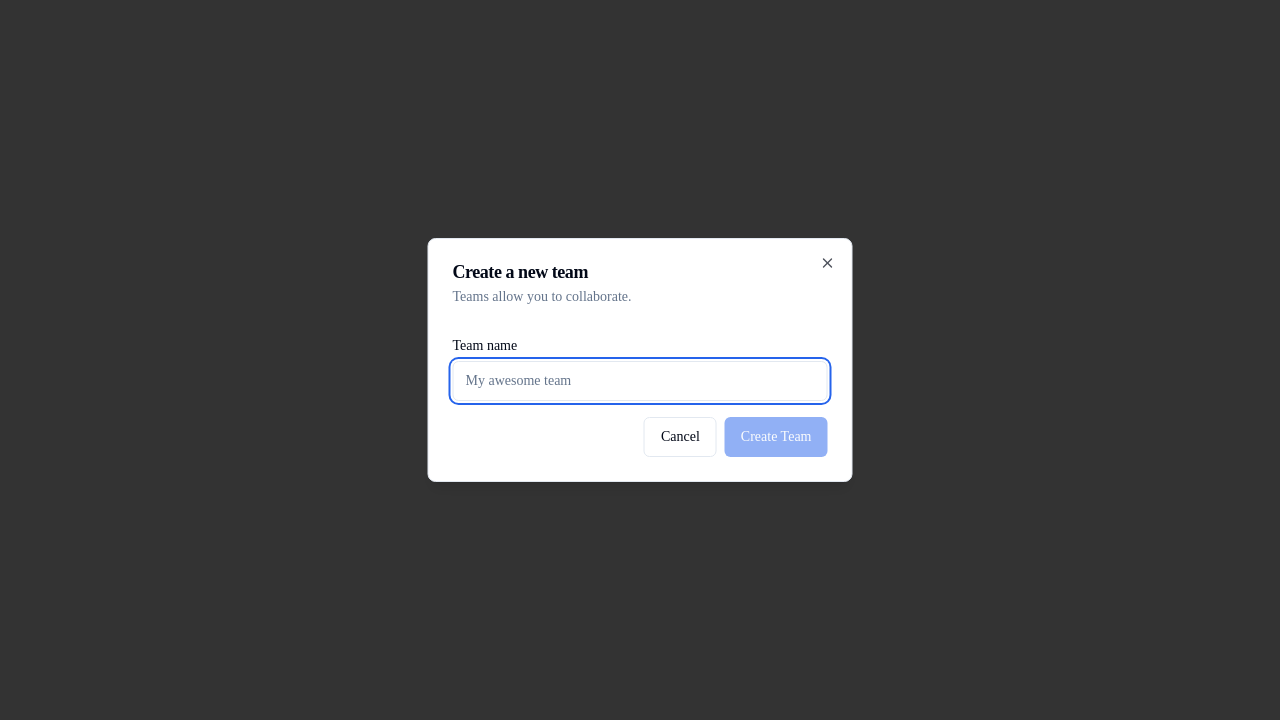
Test case: CreateTeamDialog › enables create button when name is entered
The width and height of the screenshot is (1280, 720).
Step 1. Type "New Team" into the field labelled "Team name" → (640, 381), box [452,361,828,401]
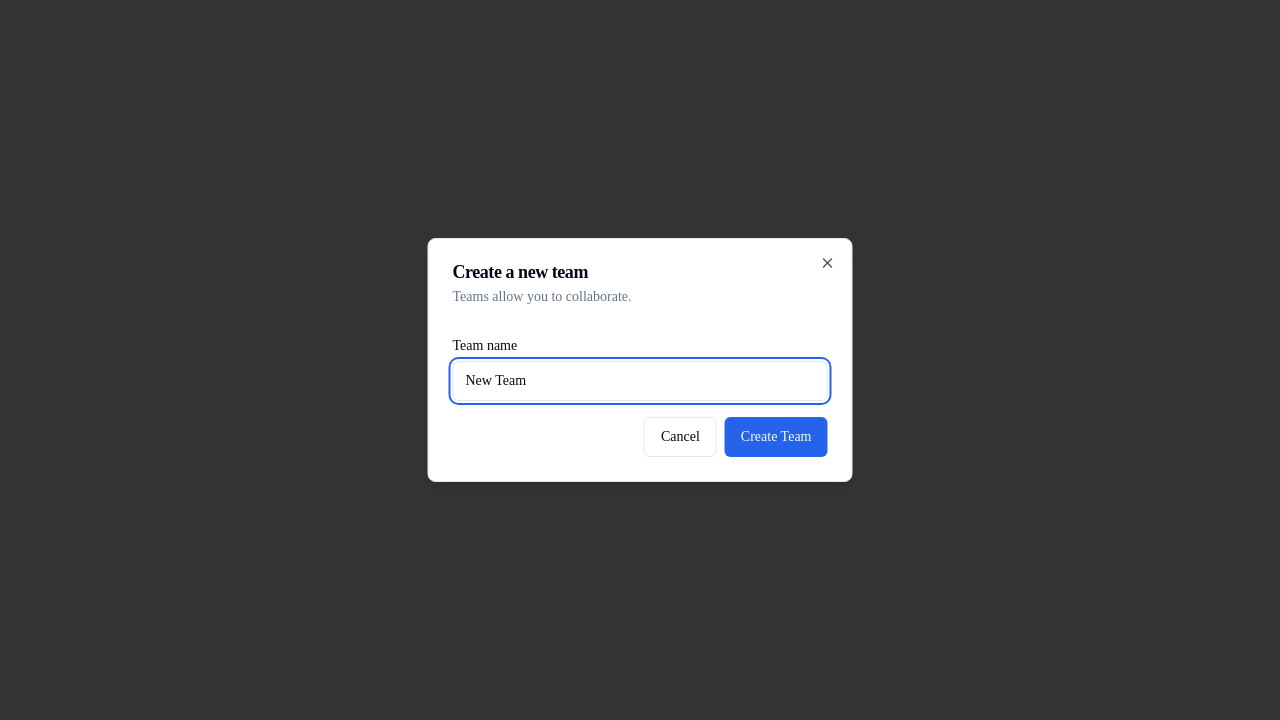
Check: the button "Create Team" is enabled, box [725,417,828,457]
